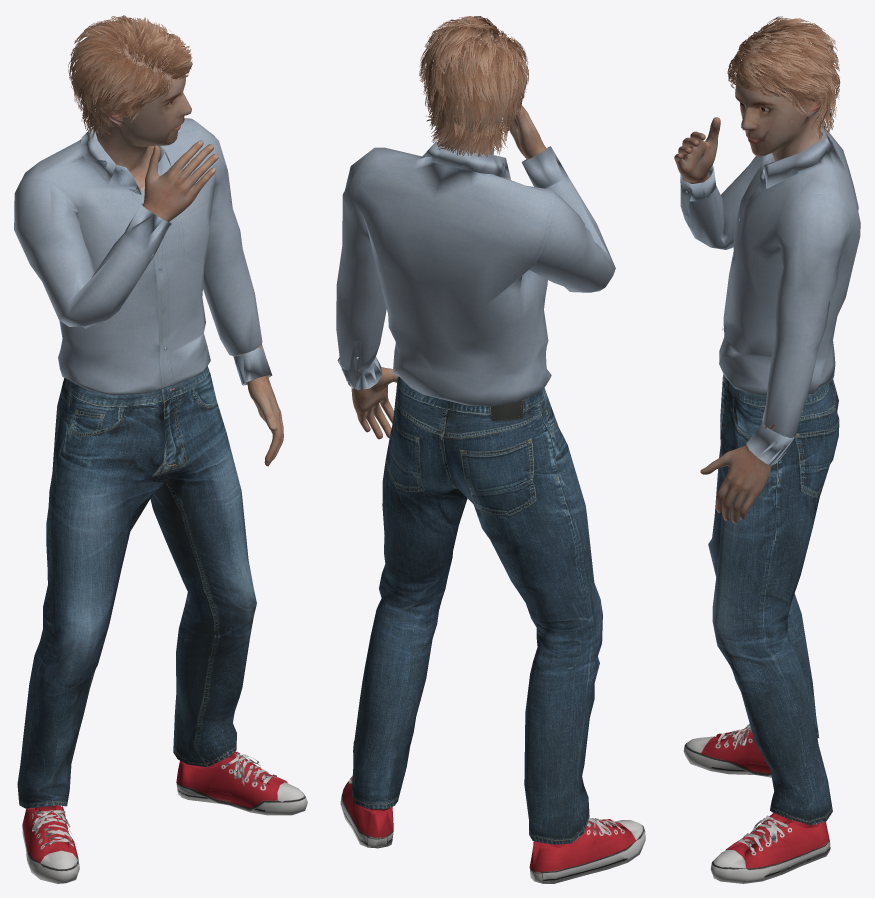
The model's file is Human_01_Stand.fbx.
The picture shows the model from 3 angles, left to right: view 1: azimuth 30°, elevation 25°; view 2: azimuth 150°, elevation 25°; view 3: azimuth 270°, elevation 25°; orthographic projection. The views are drawn at different scales.
Visible parts, largest first — view 1: Human 01 Stand; view 2: Human 01 Stand; view 3: Human 01 Stand.
Boxes of the visible parts, left/top/right/bottom form: Human 01 Stand: left=14, top=15, right=307, bottom=883; Human 01 Stand: left=336, top=16, right=645, bottom=883; Human 01 Stand: left=674, top=16, right=860, bottom=883.
Size of the model in its own units: 65.74 by 184 by 39.31.
